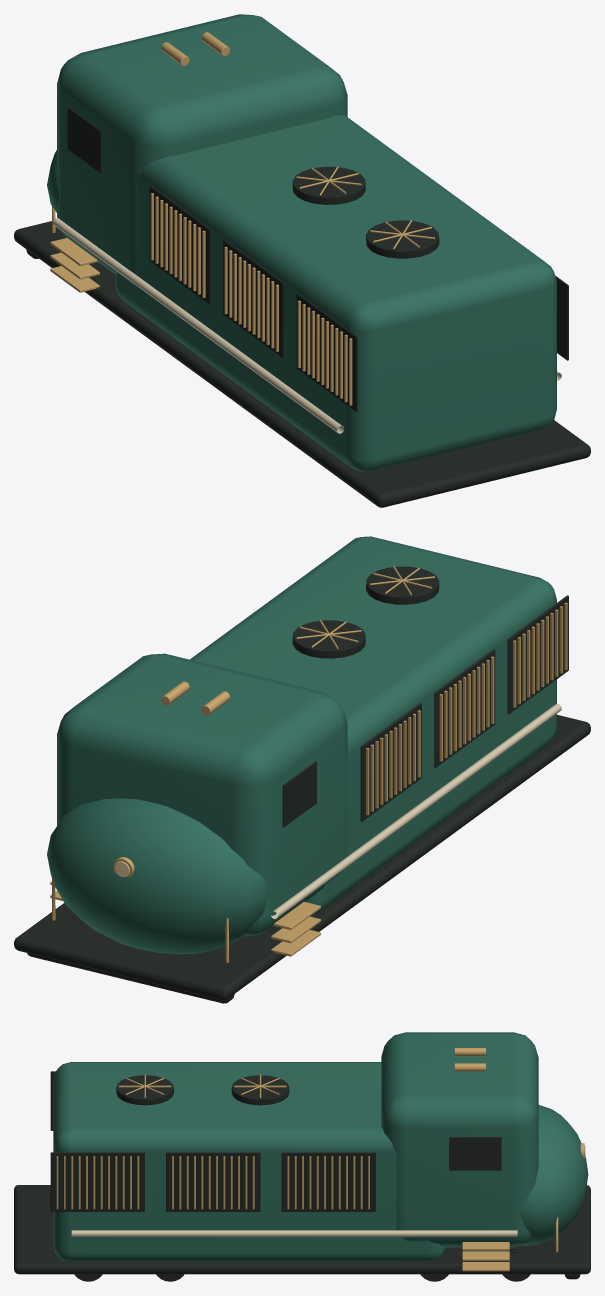
The model's file is Locomotive317.fbx.
3 renders of one model, top to bottom at view 1: azimuth 30°, elevation 25°; view 2: azimuth 150°, elevation 25°; view 3: azimuth 270°, elevation 25°, orthographic. The views are drawn at different scales.
Parts seen in each view (by area): view 1: Locomotive / long hood, Locomotive / cab, Locomotive / frame, Body / cream stripe, Hood / radiator panel.001, Hood / radiator panel.002, Hood / radiator panel, Roof / cooling fan, Roof / cooling fan.001, Cab / side glass, Hood / radiator panel.003, Cab / access step.002; view 2: Locomotive / long hood, Locomotive / cab, Locomotive / rounded nose, Locomotive / frame, Body / cream stripe, Hood / radiator panel, Hood / radiator panel.001, Hood / radiator panel.002, Roof / cooling fan, Roof / cooling fan.001, Cab / side glass, Nose / pilot (+1 smaller); view 3: Locomotive / long hood, Locomotive / cab, Locomotive / frame, Locomotive / rounded nose, Hood / radiator panel.005, Hood / radiator panel.003, Hood / radiator panel.004, Body / cream stripe.001, Cab / side glass.001, Roof / cooling fan.001, Roof / cooling fan, Cab / access step.004 (+2 smaller).
Boxes of the visible parts, <box> form: Locomotive / long hood: <box>115,115,556,471</box>; Locomotive / cab: <box>57,14,347,283</box>; Locomotive / frame: <box>14,221,590,507</box>; Body / cream stripe: <box>53,218,344,433</box>; Hood / radiator panel.001: <box>223,239,284,358</box>; Hood / radiator panel.002: <box>149,185,210,304</box>; Hood / radiator panel: <box>296,293,357,412</box>; Roof / cooling fan: <box>366,220,439,258</box>; Roof / cooling fan.001: <box>292,166,365,204</box>; Cab / side glass: <box>67,107,101,173</box>; Hood / radiator panel.003: <box>555,276,568,360</box>; Cab / access step.002: <box>50,238,98,266</box>; Locomotive / long hood: <box>190,536,556,915</box>; Locomotive / cab: <box>57,653,347,936</box>; Locomotive / rounded nose: <box>47,798,268,954</box>; Locomotive / frame: <box>14,715,590,1000</box>; Body / cream stripe: <box>271,703,561,919</box>; Hood / radiator panel: <box>507,595,568,714</box>; Hood / radiator panel.001: <box>434,649,495,767</box>; Hood / radiator panel.002: <box>360,703,421,821</box>; Roof / cooling fan: <box>366,566,439,604</box>; Roof / cooling fan.001: <box>292,620,365,658</box>; Cab / side glass: <box>282,761,316,827</box>; Nose / pilot: <box>27,953,234,1003</box>; Locomotive / long hood: <box>53,1062,445,1261</box>; Locomotive / cab: <box>381,1032,538,1247</box>; Locomotive / frame: <box>14,1185,590,1274</box>; Locomotive / rounded nose: <box>520,1105,588,1245</box>; Hood / radiator panel.005: <box>281,1152,375,1211</box>; Hood / radiator panel.003: <box>50,1152,144,1211</box>; Hood / radiator panel.004: <box>166,1152,260,1211</box>; Body / cream stripe.001: <box>71,1230,517,1236</box>; Cab / side glass.001: <box>449,1137,501,1170</box>; Roof / cooling fan.001: <box>231,1075,289,1105</box>; Roof / cooling fan: <box>116,1075,173,1105</box>; Cab / access step.004: <box>462,1251,509,1260</box>.
Size of the model in its own units: 417 by 415 by 1100.
